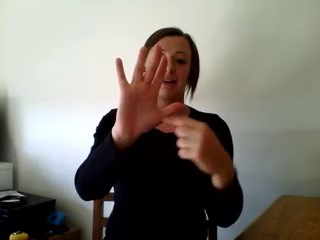J: (111, 43, 223, 175)
